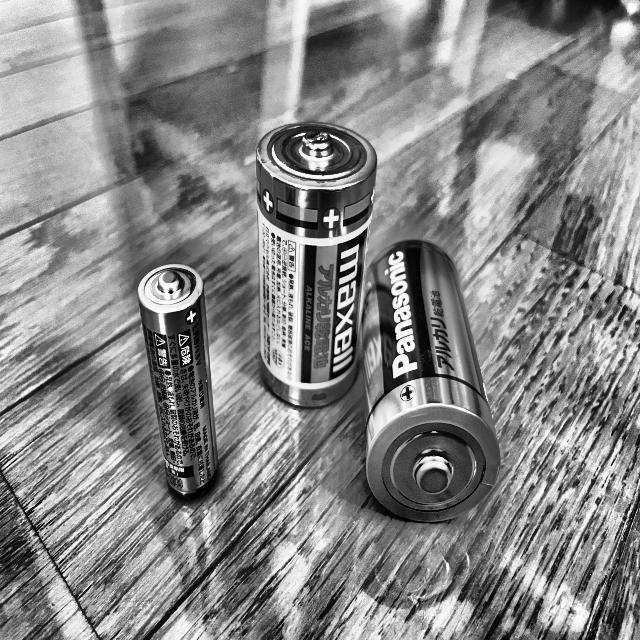drycell: (252, 112, 384, 413), (133, 262, 230, 510)
